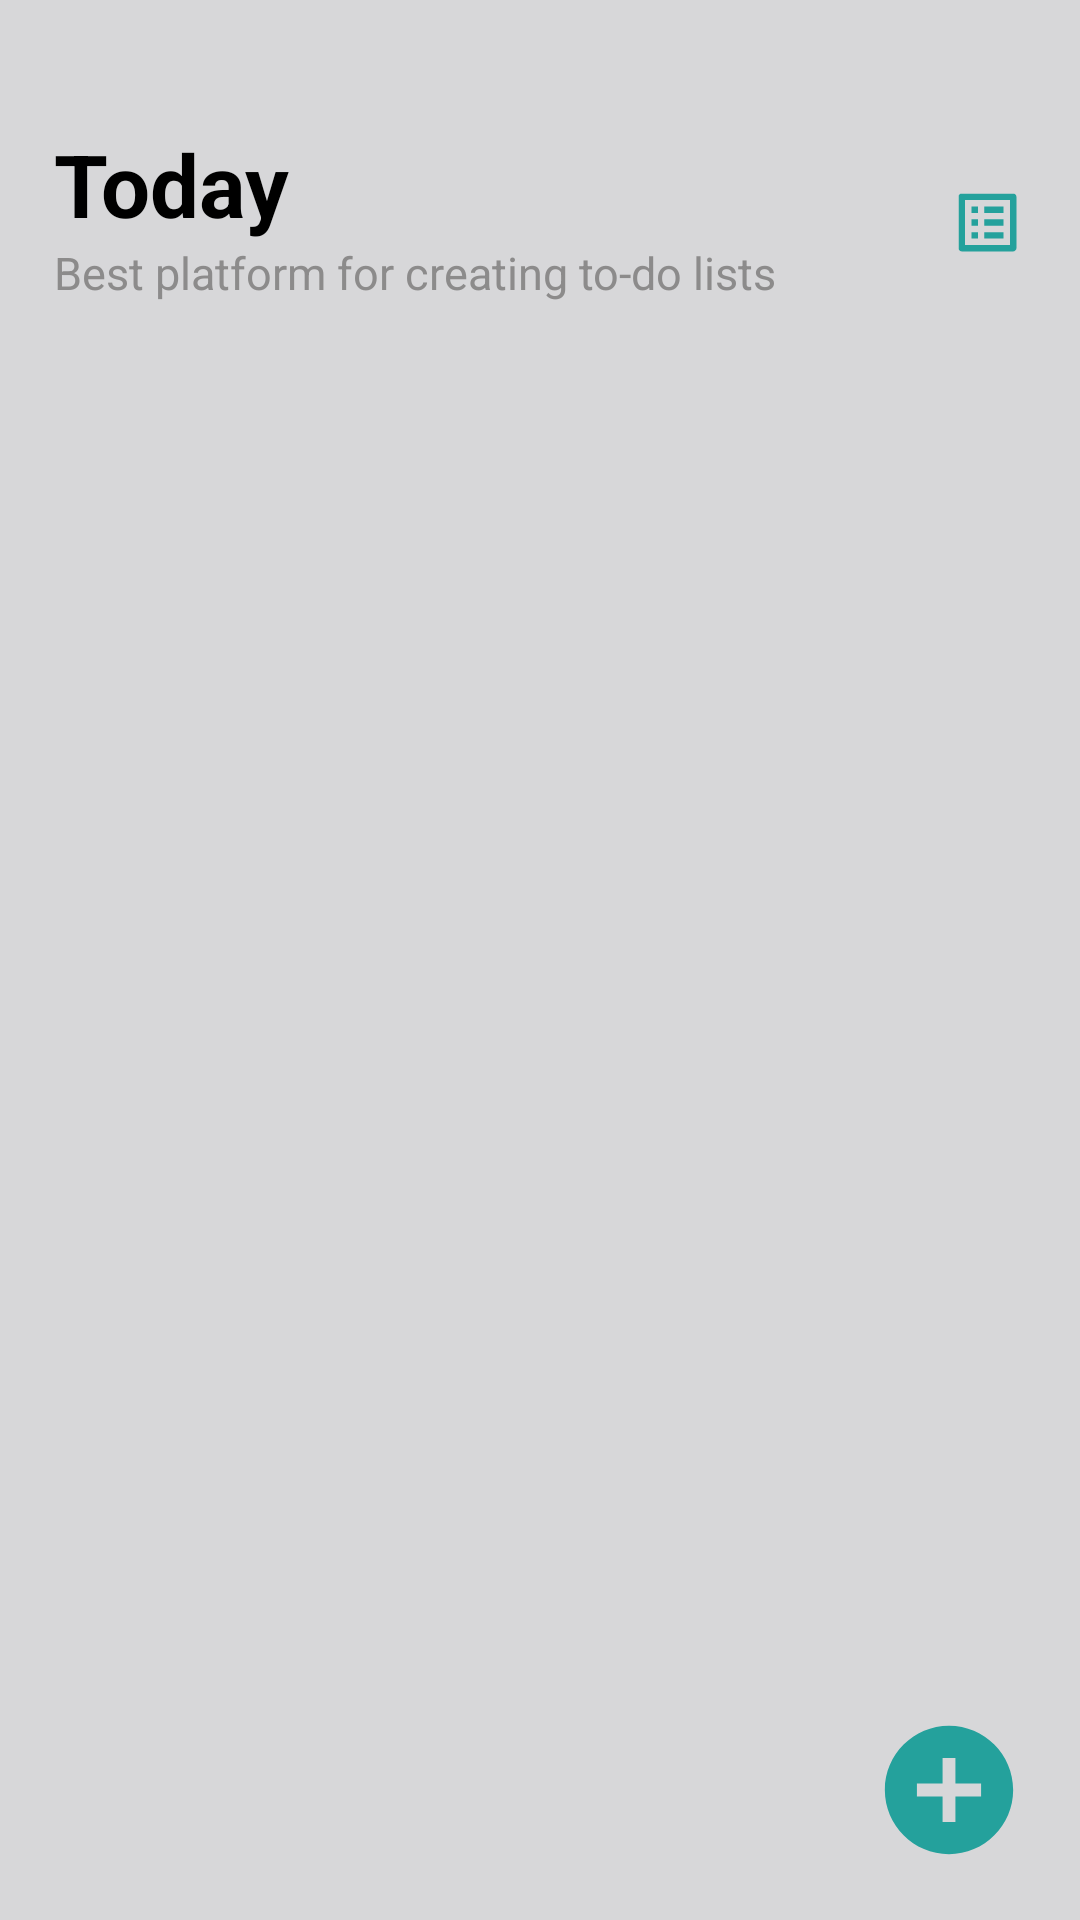

Icons on this 1080px×1920px Android screen, each with the point to tap as (x=x, y=y):
add: (x=949, y=1790)
